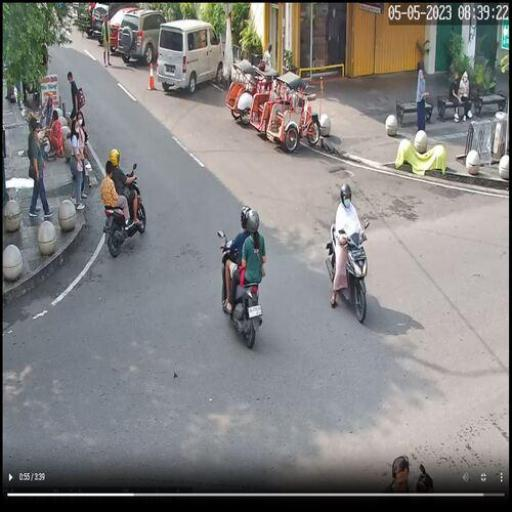mobil: (157, 20, 225, 96), (120, 8, 173, 64)
motor: (217, 228, 268, 349), (326, 222, 380, 326), (96, 162, 148, 260)
